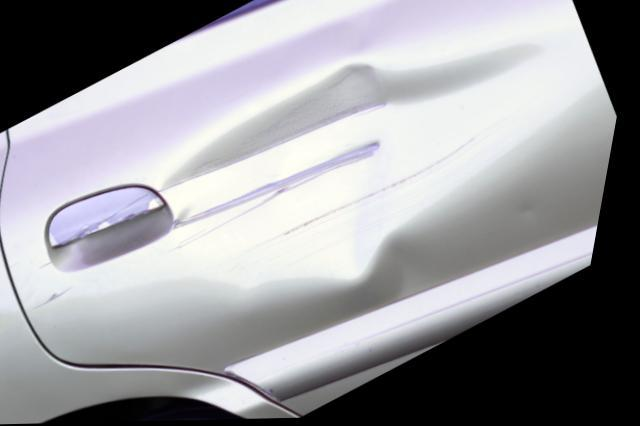dent: (89, 49, 590, 291)
